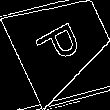P_NE: (33, 14, 89, 70)
